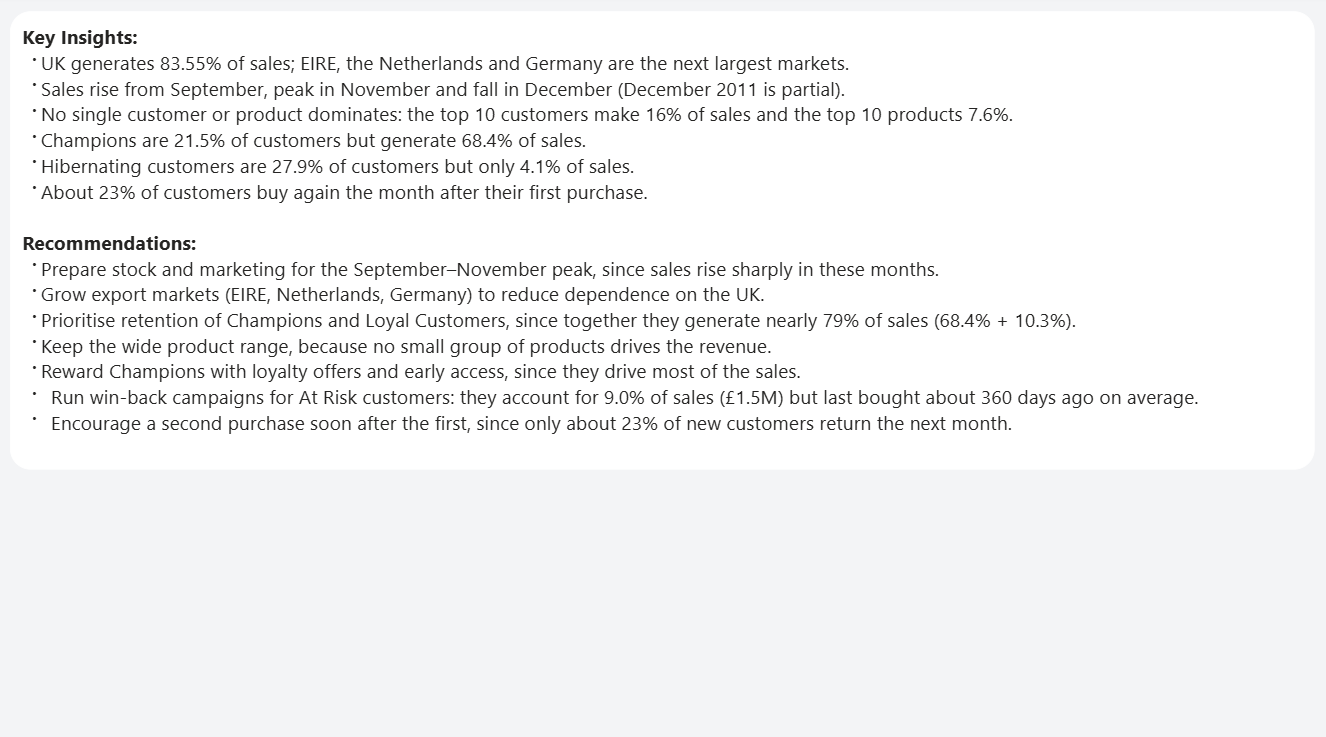

This screenshot's page, from the dashboard's own definition file:
{"tool":"powerbi","page":{"name":"Insights & Recommendations","canvas":[1280,720],"ordinal":6},"visuals":[{"type":"textbox","box":[9.7,15.7,1259.5,442.8],"z":0}]}

Visuals, with their boxes in screenshot pixels (x1, y1, x2, y2), scaled from the page's 1280x720 canvas onto the 1326x737 screenshot:
textbox: rect(10, 16, 1315, 469)
